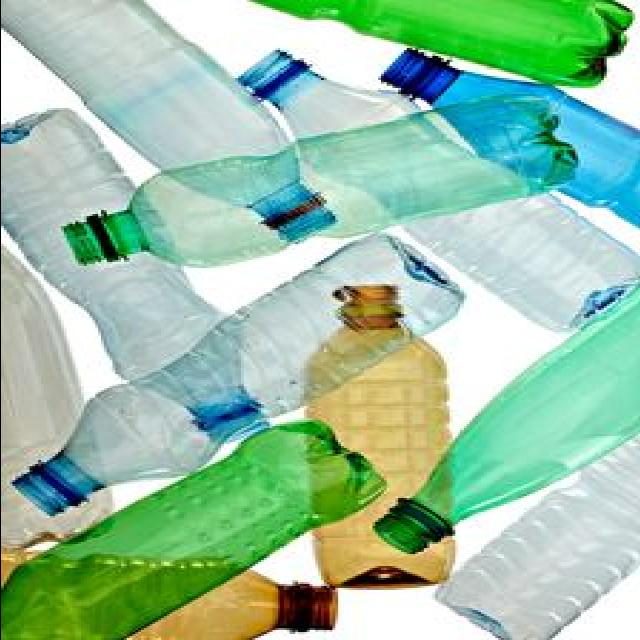plastic_bottle: (3, 231, 476, 530), (3, 0, 348, 259), (3, 416, 393, 638), (180, 86, 597, 275), (366, 282, 640, 566), (226, 0, 637, 93)
